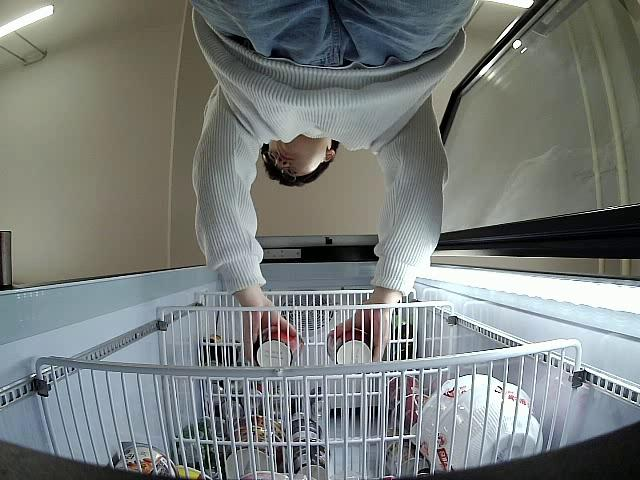00_hand: (331, 289, 398, 360), (236, 295, 295, 360)
02_shinRamen_S: (254, 319, 302, 376), (322, 326, 374, 364)
